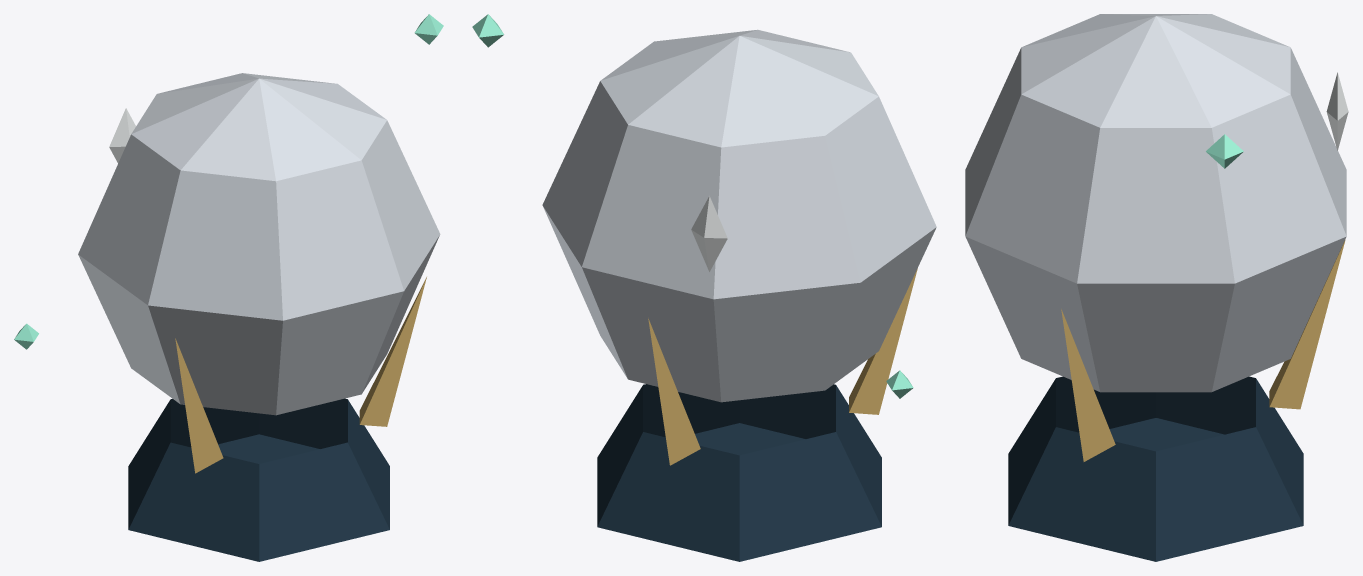
The model's file is EssenceOrb.obj.
The picture shows the model from 3 angles, left to right: view 1: azimuth 30°, elevation 25°; view 2: azimuth 150°, elevation 25°; view 3: azimuth 270°, elevation 25°; orthographic projection. The views are drawn at different scales.
Bounding box in the file's own units: 1.98 × 1.9 × 1.39.
